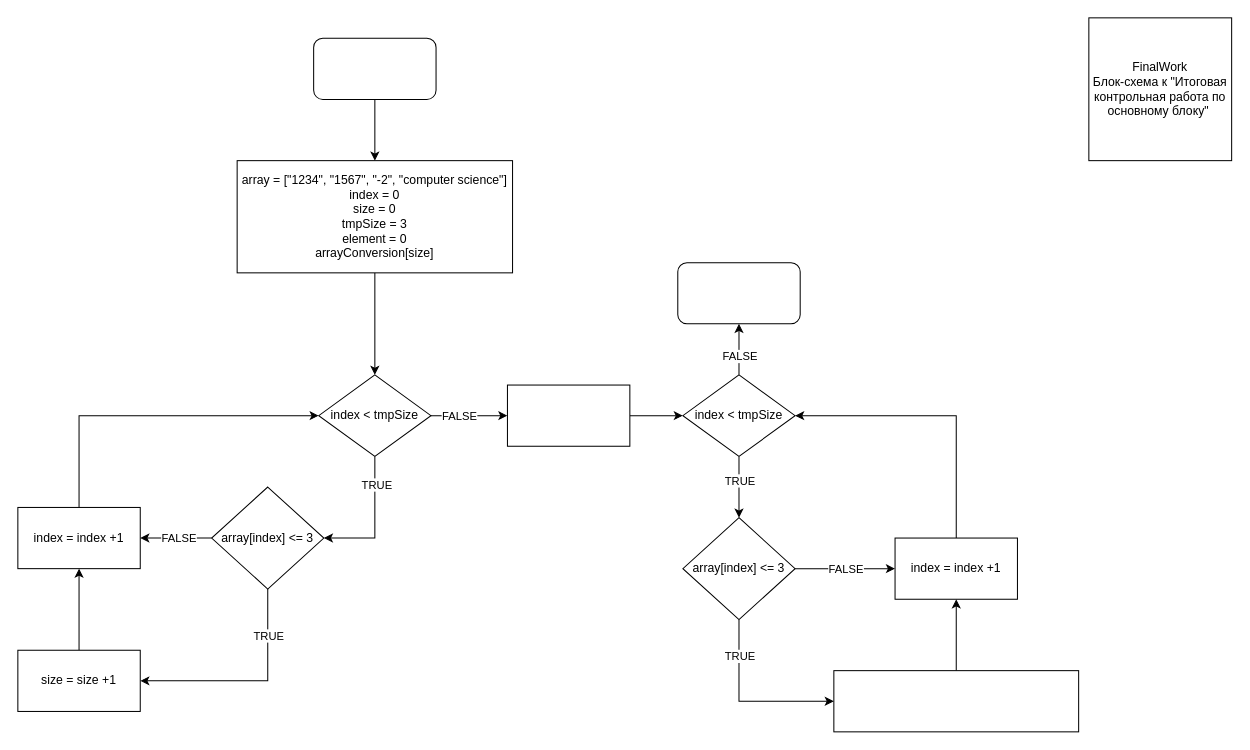
Some shapes in this 1250 by 750 pixel diagram are drawn without their labels. The centre of each missing label's shape, as x and y in pixels:
arrayConversion: [738,293]
arrayConversion[element] = array[index] element = element +1: [956,701]
index = 0 tmpSize = 3: [568,415]
START: [374,68]
